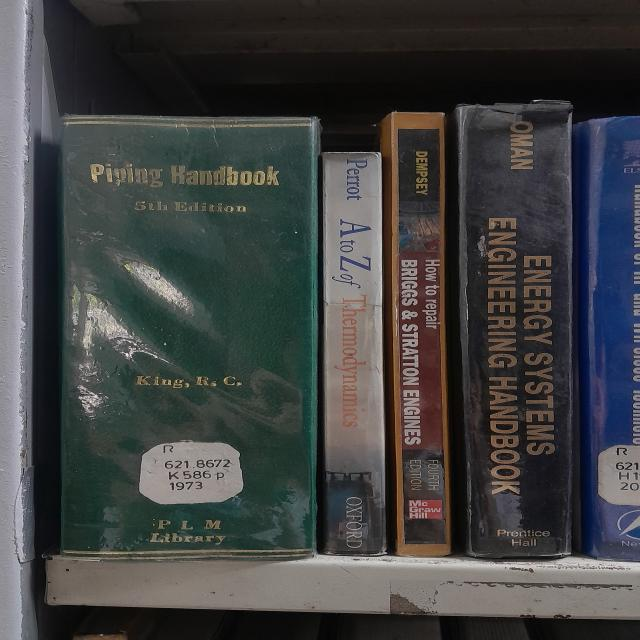book: (62, 116, 319, 560), (456, 101, 573, 558), (380, 112, 452, 557), (573, 116, 640, 561), (323, 152, 386, 555)
